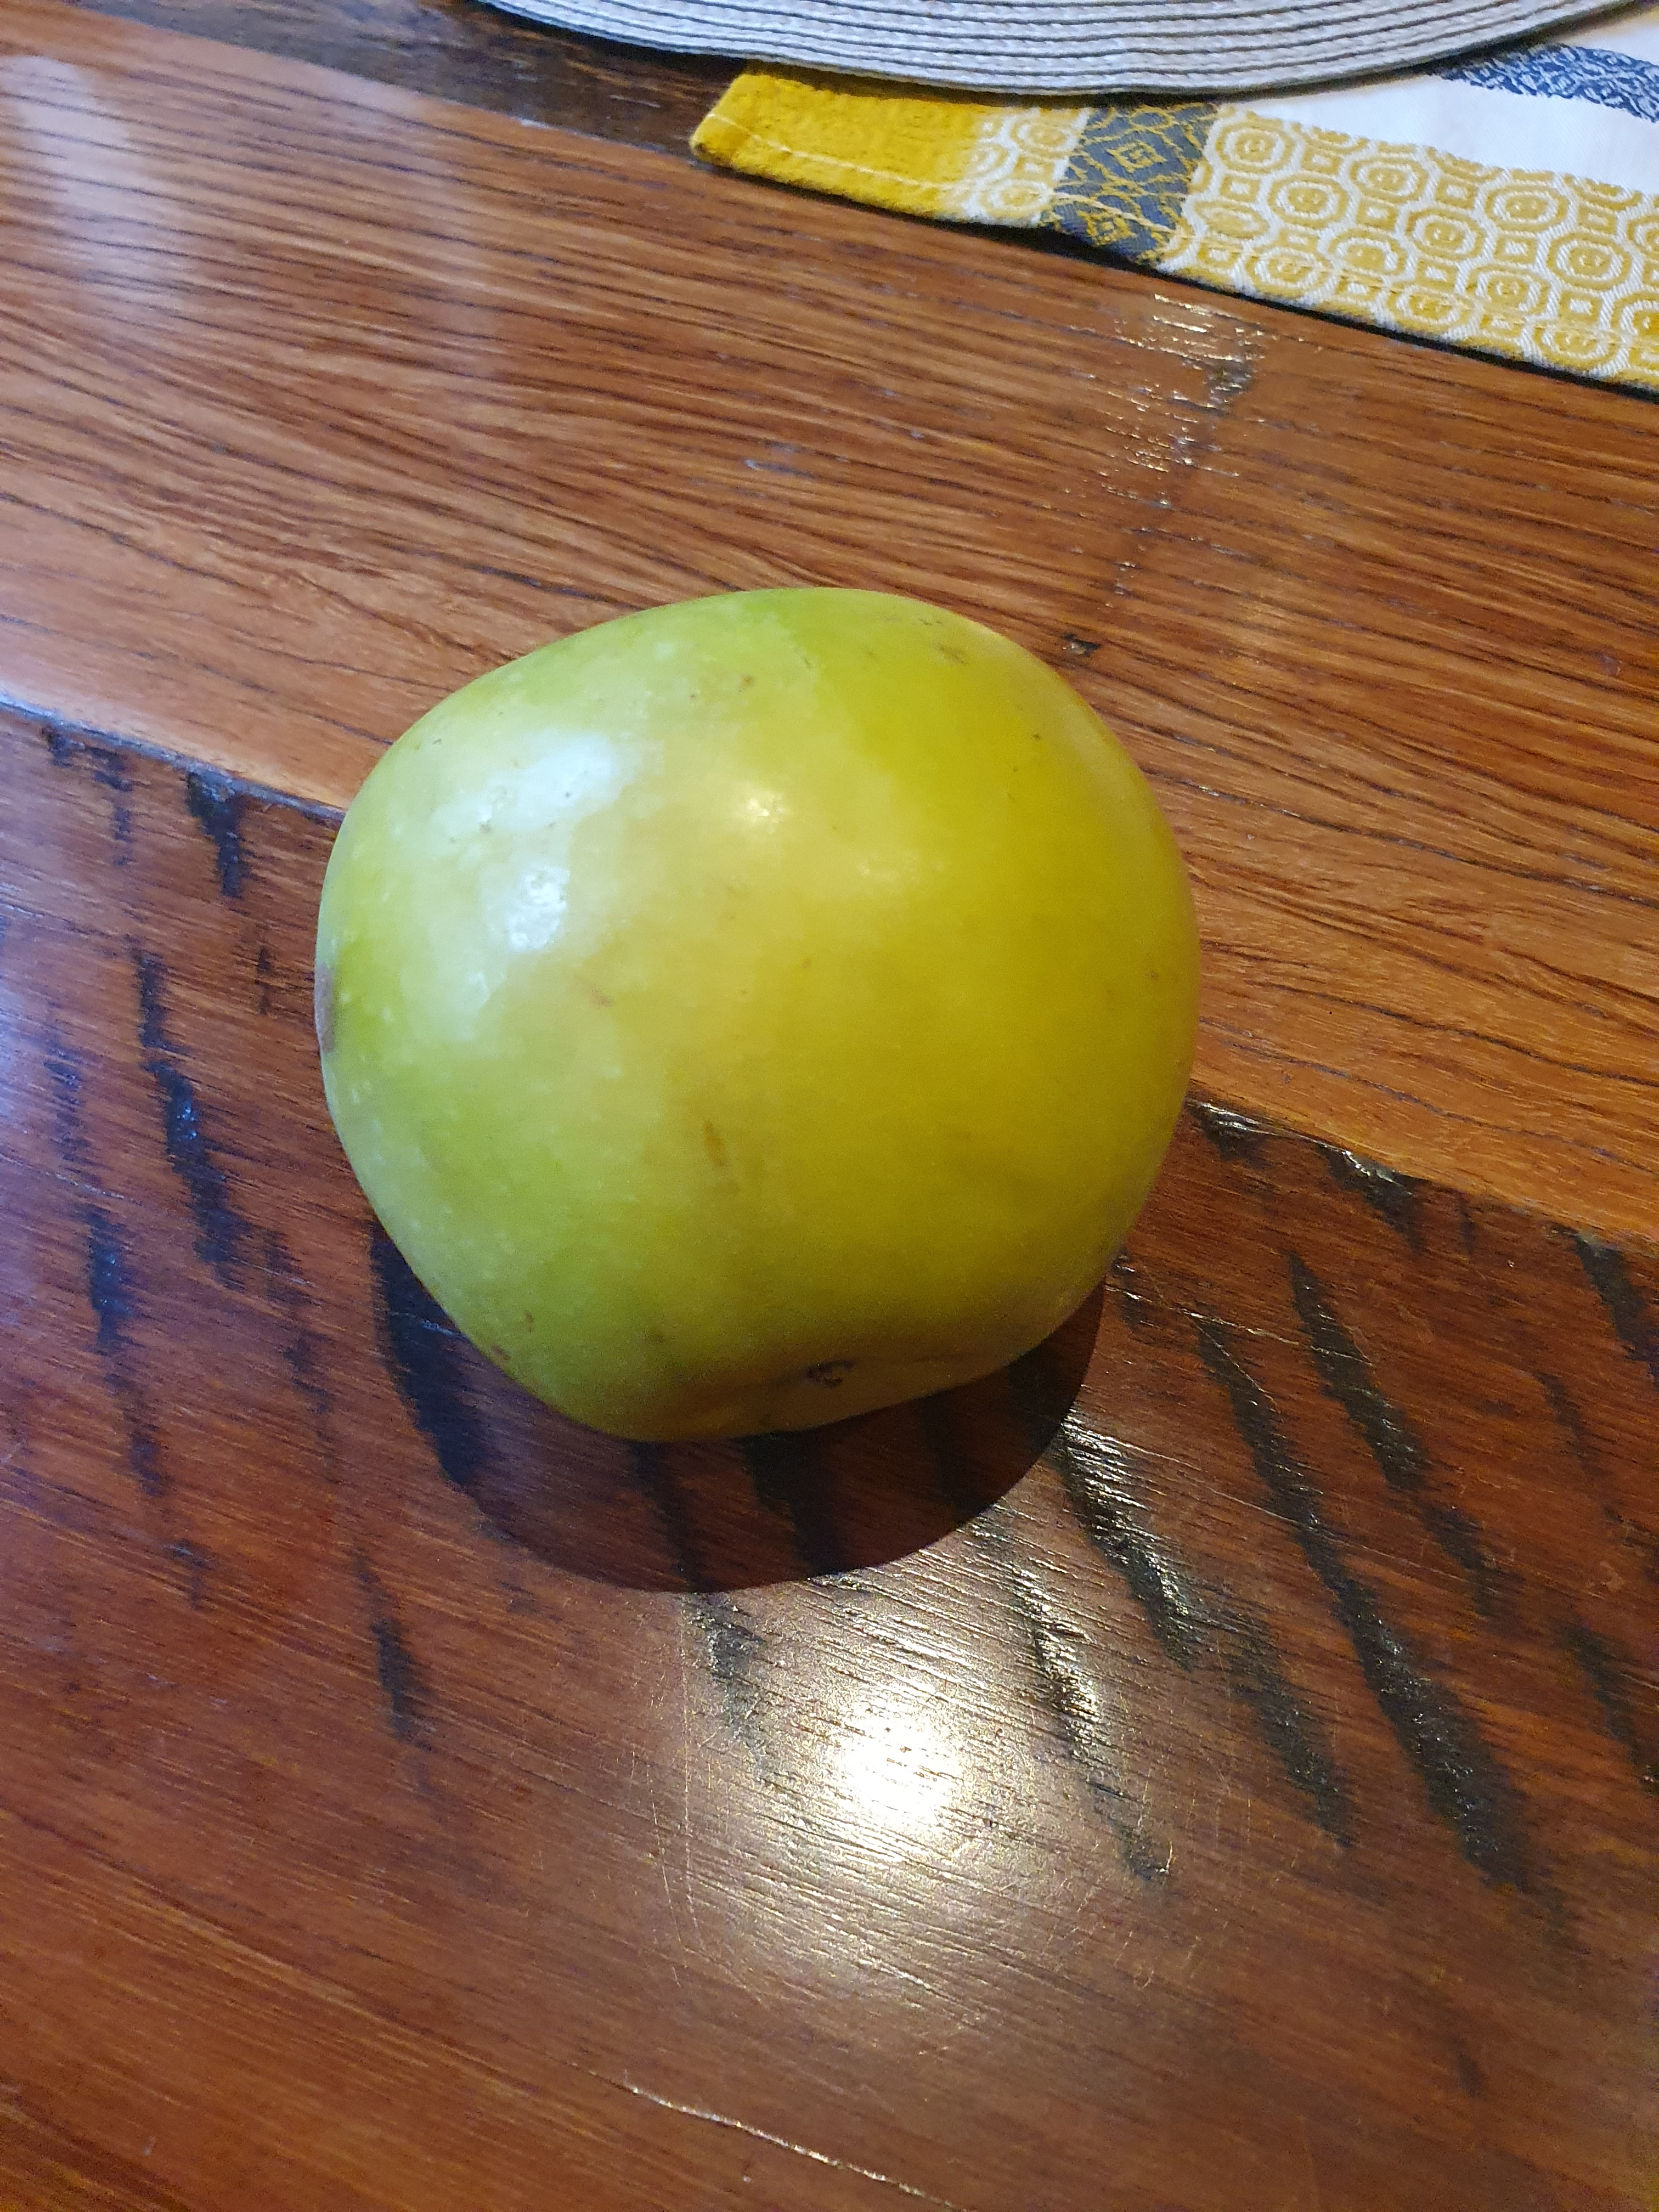green_apple: (213, 583, 1225, 1479)
